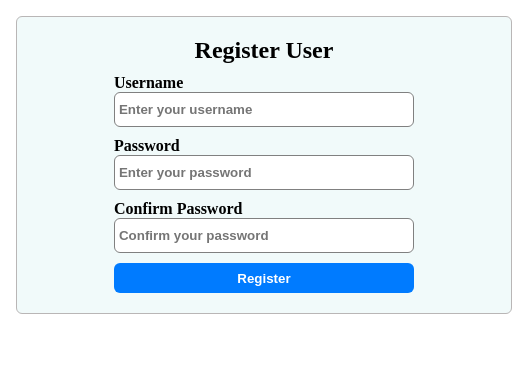
Scenario: RegisterPage › shows an error if password is less than 6 characters
Type "12345" into the password field labelled "Password" at x=264, y=172, box top-left (114, 155), bottom-right (414, 190)
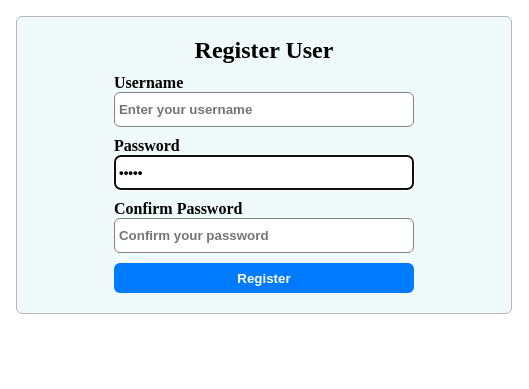
Click the button with aria-label "Submit Registration" at x=264, y=278, box top-left (114, 263), bottom-right (414, 293)
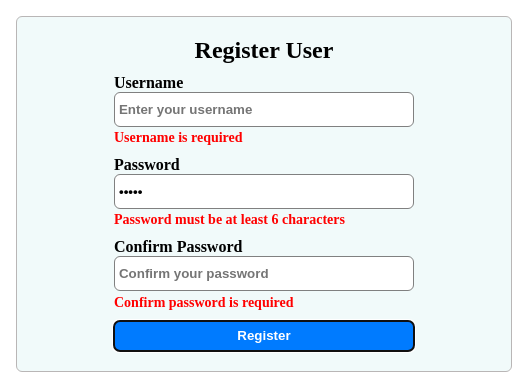
Check: the text "Password must be at least 6 characters" is shown, box top-left (114, 212), bottom-right (345, 227)
